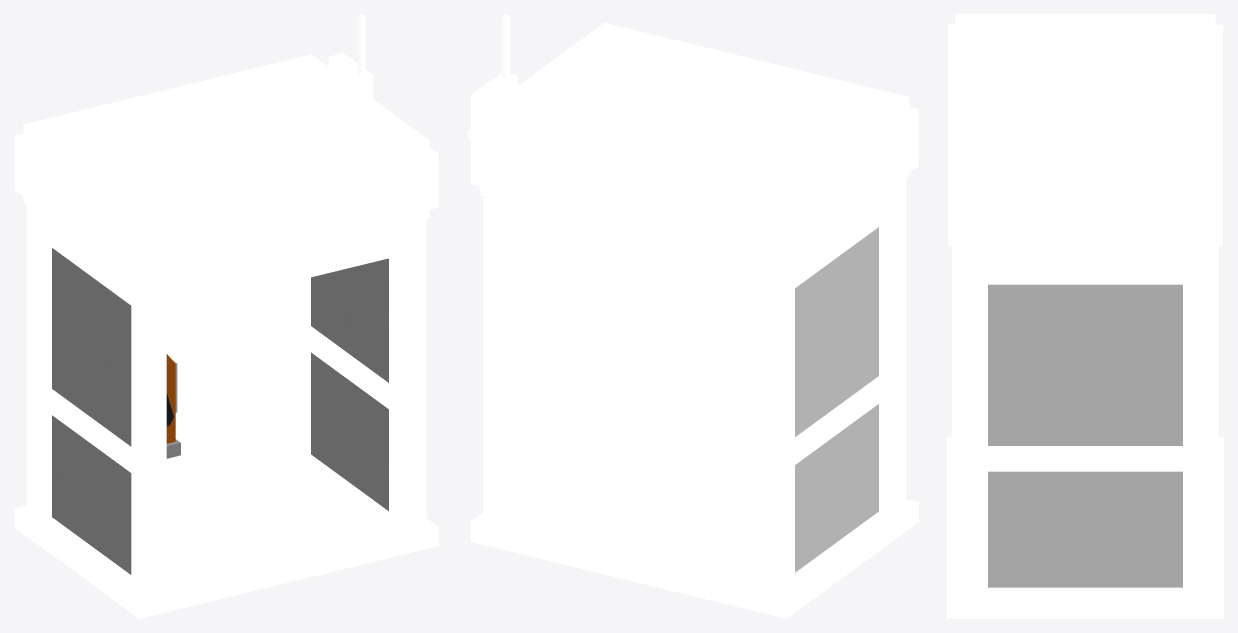
File: kern_telephone.gltf
3 renders of one model, left to right at view 1: azimuth 30°, elevation 25°; view 2: azimuth 150°, elevation 25°; view 3: azimuth 270°, elevation 25°, orthographic. The views are drawn at different scales.
Parts seen in each view (by area): view 1: Telephone Booth, Telephone Booth WIndow, Telephone.001; view 2: Telephone Booth, Telephone Booth WIndow; view 3: Telephone Booth, Telephone Booth WIndow.
Boxes of the visible parts, box(x1,y1,x2,y2) form: Telephone Booth: box(14, 14, 438, 618); Telephone Booth WIndow: box(52, 248, 388, 574); Telephone.001: box(166, 354, 180, 458); Telephone Booth: box(467, 14, 918, 618); Telephone Booth WIndow: box(795, 227, 878, 572); Telephone Booth: box(947, 14, 1223, 618); Telephone Booth WIndow: box(988, 284, 1182, 587).
Size of the model in its own units: 5.07 by 7.15 by 3.48.
Materials: 3 (2 with a texture image).
